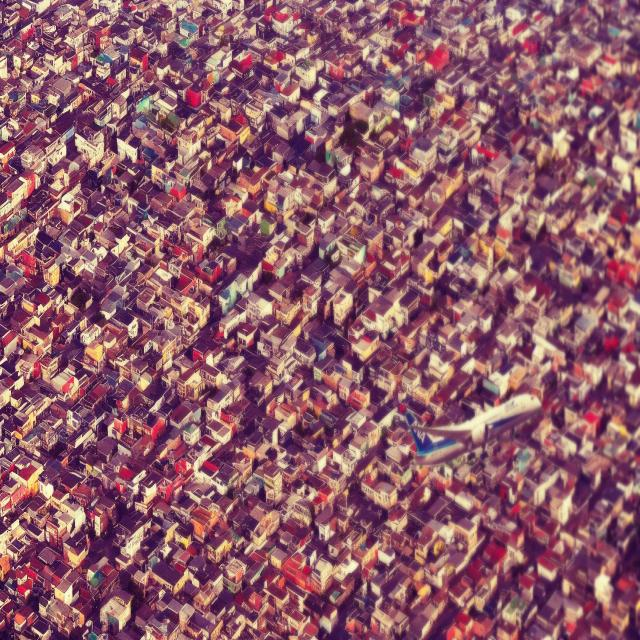airplane: (404, 391, 542, 468)
